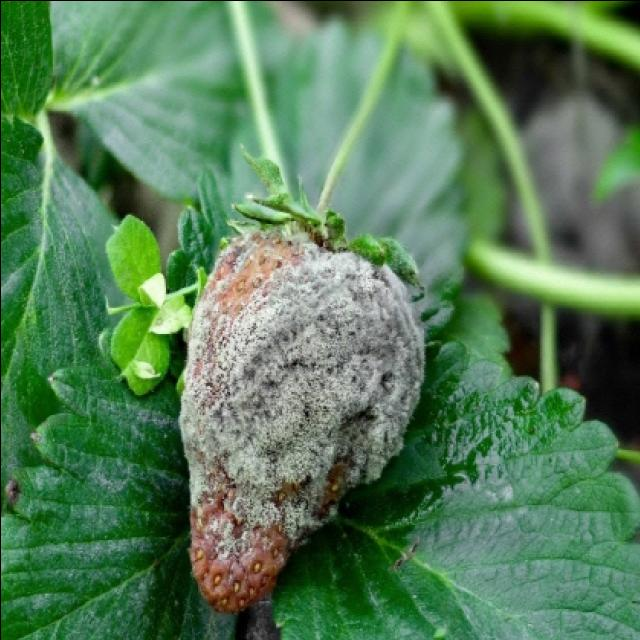Gray Mold: (175, 221, 427, 614)
